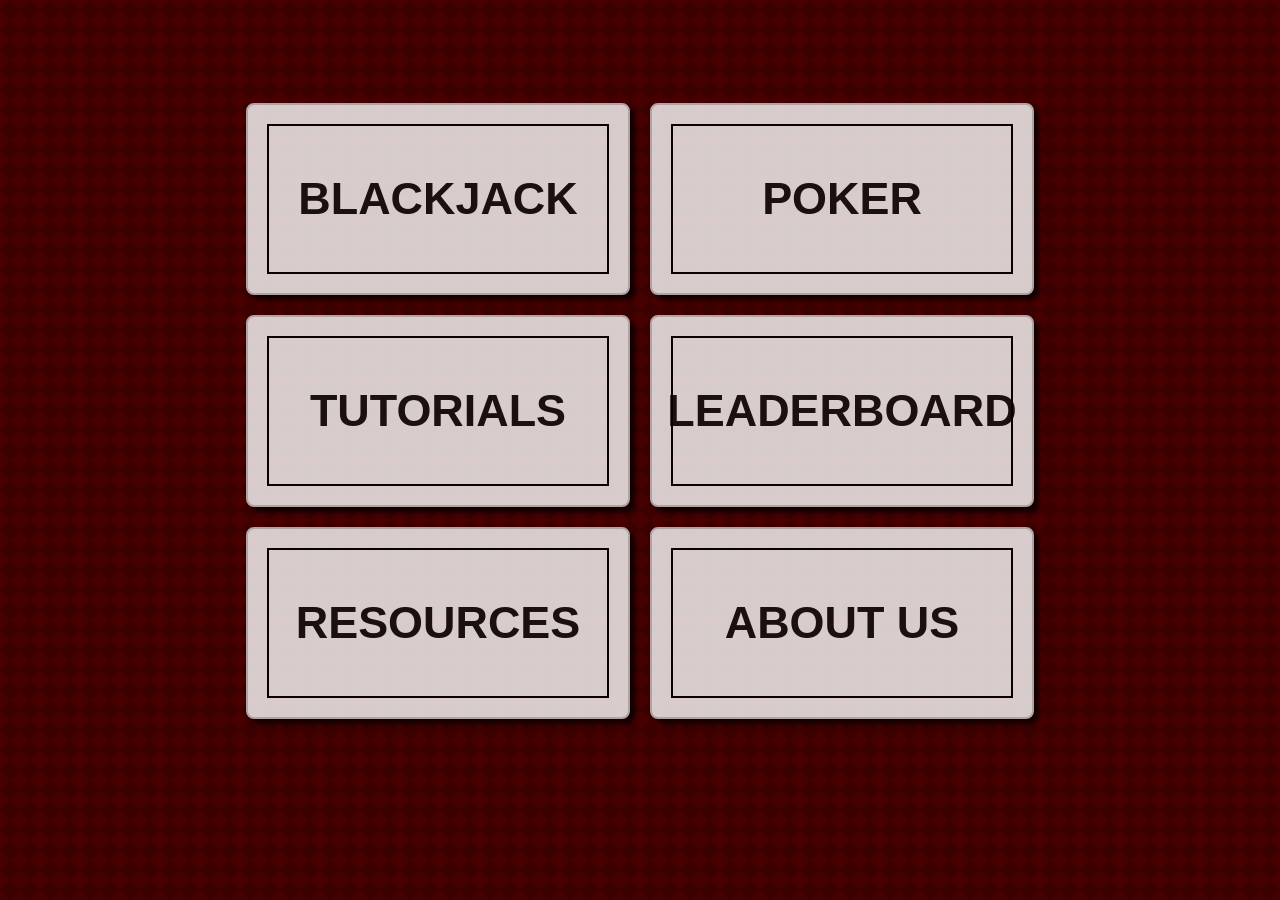
Test: Home Component - Integration Tests › navigates to Blackjack when the link is clicked
Click the link "Blackjack" at (438, 199), box x1=246 y1=103 x2=630 y2=295
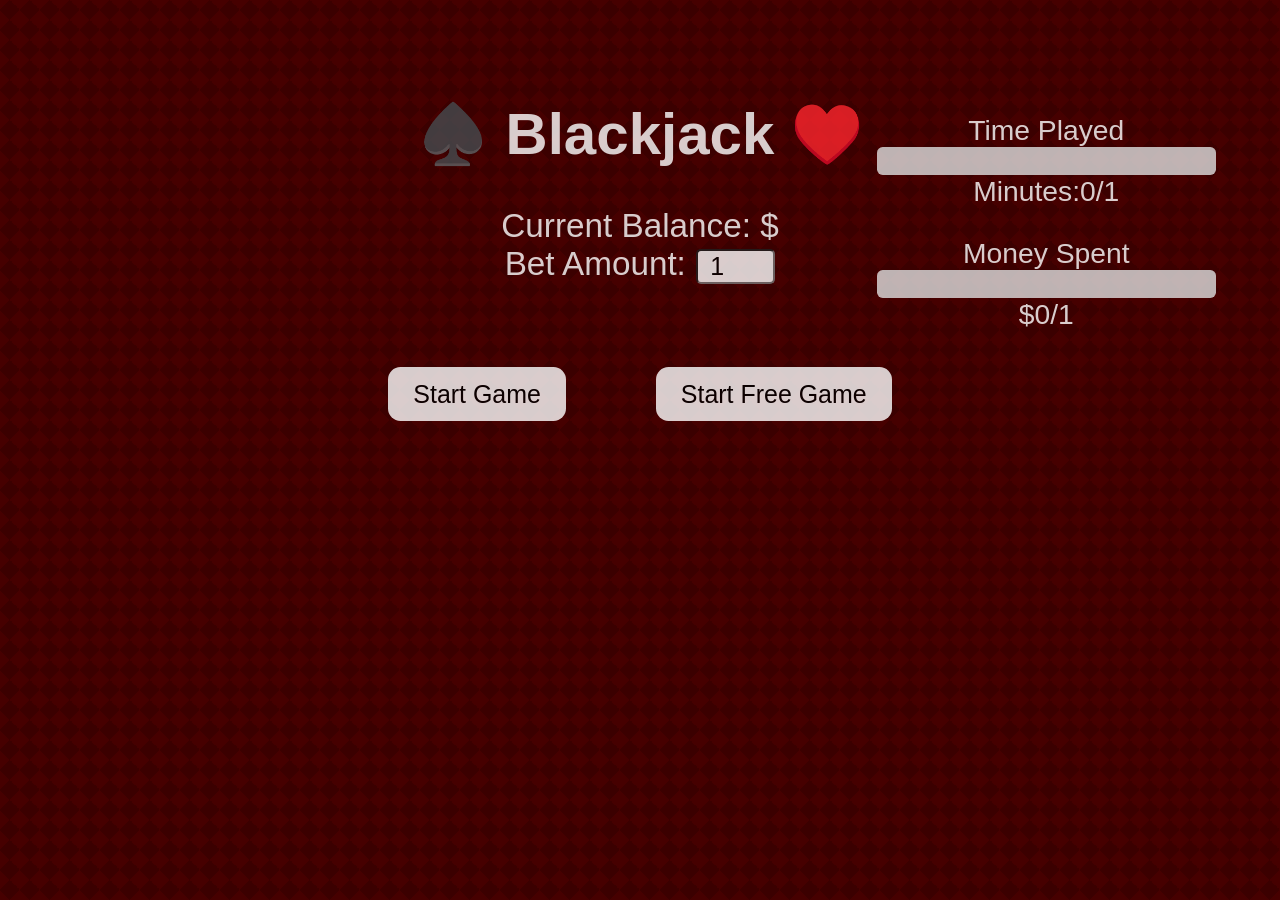
Check: the heading "♠️ Blackjack ♥️" is shown, box x1=388 y1=100 x2=892 y2=168
